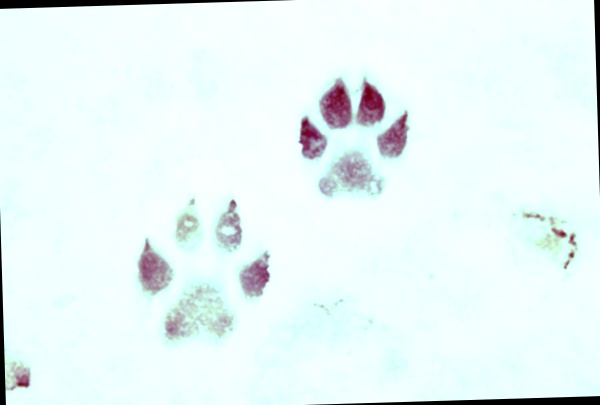loup: (323, 177, 472, 361), (172, 59, 305, 214)
